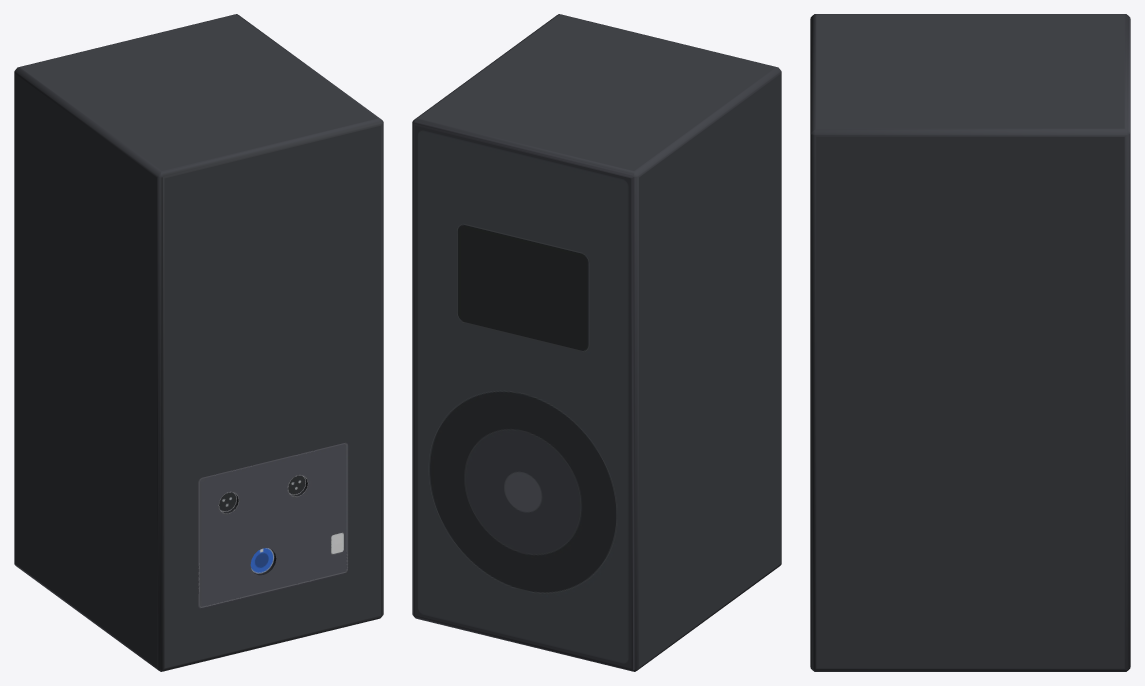
The model's file is meyer-upjunior-upj-1p.glb.
3 views of the same model, side by side, from view 1: azimuth 30°, elevation 25°; view 2: azimuth 150°, elevation 25°; view 3: azimuth 270°, elevation 25° (orthographic). The views are drawn at different scales.
Visible parts, largest first — view 1: meyer-upjunior-upj-1p-body; view 2: meyer-upjunior-upj-1p-body; view 3: meyer-upjunior-upj-1p-body.
Boxes of the visible parts, x1,y1,x2,y2 form: meyer-upjunior-upj-1p-body: [14, 14, 383, 671]; meyer-upjunior-upj-1p-body: [412, 14, 781, 671]; meyer-upjunior-upj-1p-body: [810, 14, 1130, 671].
Bounding box in the file's own units: 0.229 × 0.484 × 0.259.
1 material, 1 textured.
